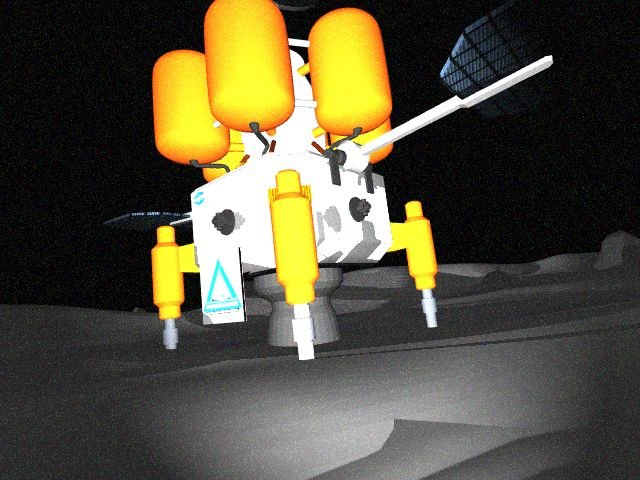basemarker: (202, 258, 243, 314)
